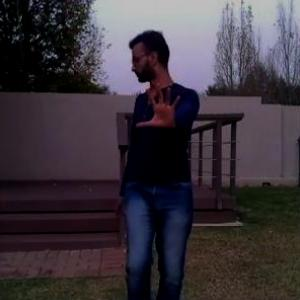follow_hand: (134, 79, 185, 132)
